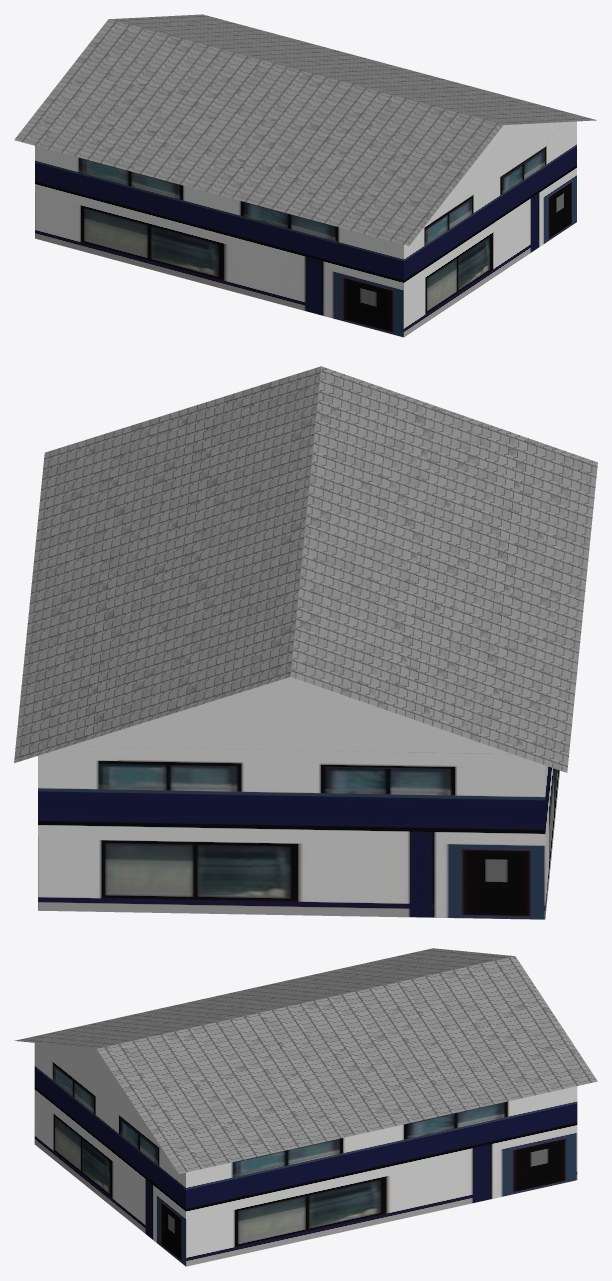
The picture shows the model from 3 angles, top to bottom: view 1: azimuth 30°, elevation 25°; view 2: azimuth 150°, elevation 25°; view 3: azimuth 270°, elevation 25°; orthographic projection. The views are drawn at different scales.
Parts seen in each view (by area): view 1: CityEngineMaterial_4_m, CityEngineMaterial_2_m, CityEngineMaterial_3_m; view 2: CityEngineMaterial_4_m, CityEngineMaterial_2_m, CityEngineMaterial_3_m; view 3: CityEngineMaterial_4_m, CityEngineMaterial_2_m, CityEngineMaterial_3_m.
Boxes of the visible parts, x1,y1,x2,y2 form: CityEngineMaterial_4_m: (14,14,596,245); CityEngineMaterial_2_m: (35,121,576,337); CityEngineMaterial_3_m: (438,122,569,209); CityEngineMaterial_4_m: (14,366,597,772); CityEngineMaterial_2_m: (38,746,559,919); CityEngineMaterial_3_m: (69,677,512,754); CityEngineMaterial_4_m: (14,948,597,1173); CityEngineMaterial_2_m: (34,1043,577,1266); CityEngineMaterial_3_m: (41,1043,151,1132).
Size of the model in its own units: 33.98 by 11.22 by 37.13.
